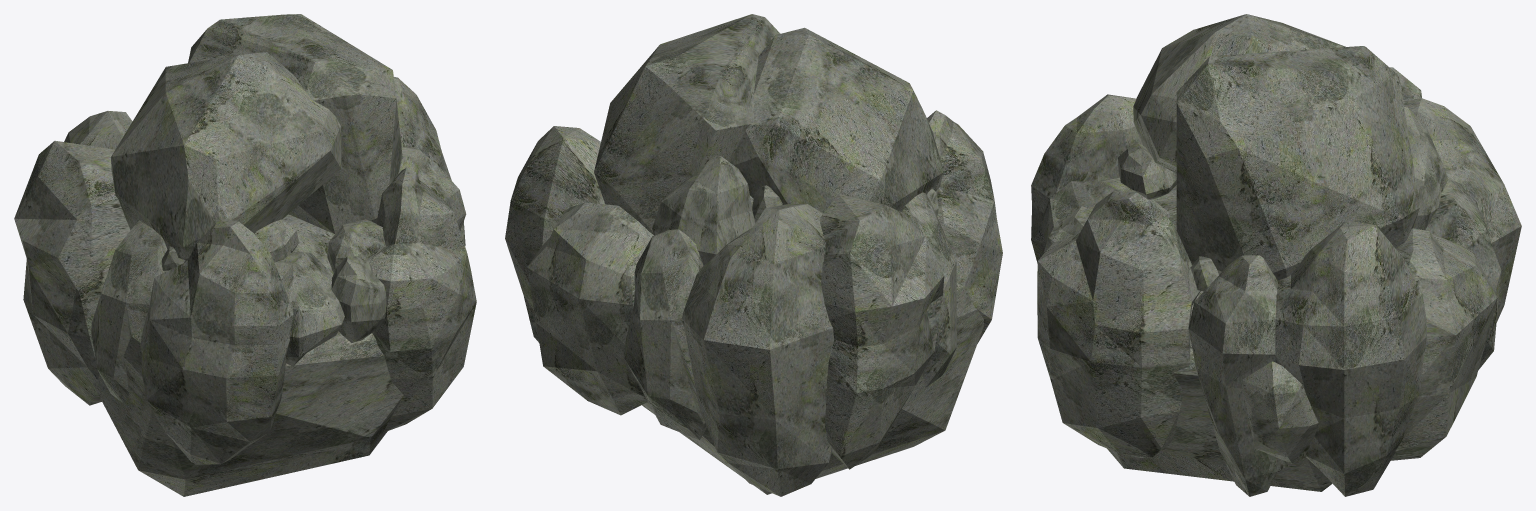
Rendered from poi_all_lair_cave_large_l0.fbx.
3 views of the same model, side by side, from view 1: azimuth 30°, elevation 25°; view 2: azimuth 150°, elevation 25°; view 3: azimuth 270°, elevation 25° (orthographic). The views are drawn at different scales.
Visible parts, largest first — view 1: mesh_node; view 2: mesh_node; view 3: mesh_node.
Boxes of the visible parts, box(x1,y1,x2,y2) form: mesh_node: box(14, 14, 476, 496); mesh_node: box(505, 14, 1002, 496); mesh_node: box(1031, 14, 1521, 496).
Size of the model in its own units: 28.16 by 27.01 by 26.44.
